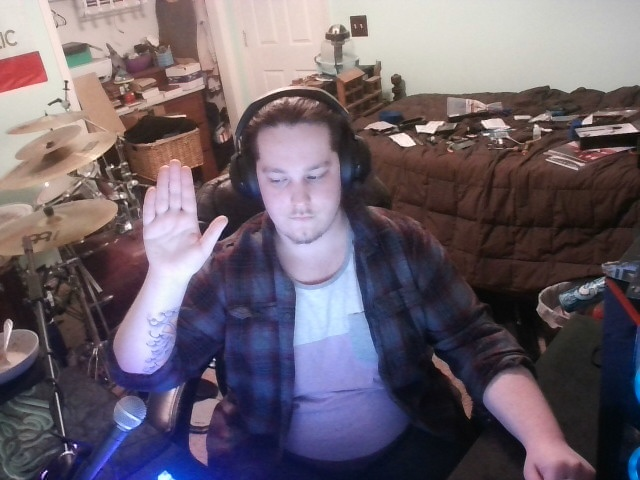hello: (114, 142, 239, 302)
